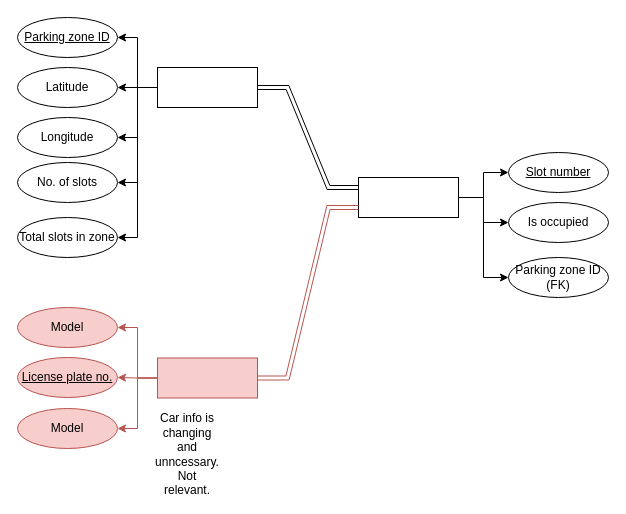
Some shapes in this 626 by 514 pixel diagram are drawn without their labels. Each missing label, with the centre of its shape:
"Car" goes at point 207,377.
"Parking slot" goes at point 408,197.
"Parking Zone" goes at point 207,87.
